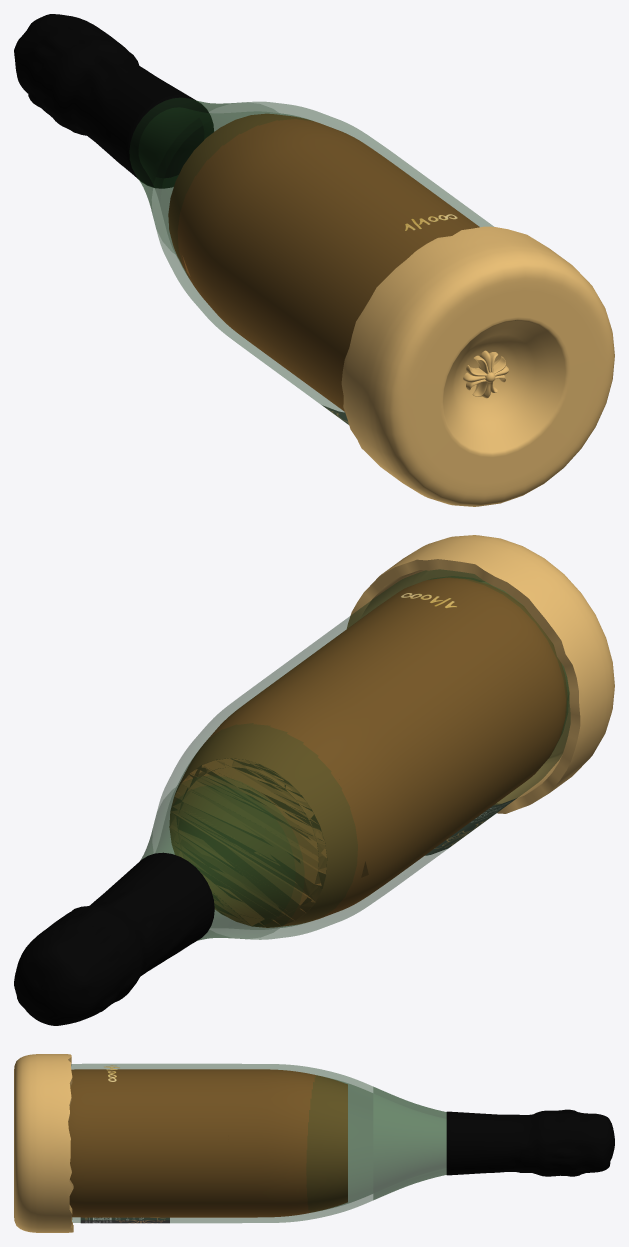
The model's file is KXCH_3D.glb.
3 renders of one model, top to bottom at view 1: azimuth 30°, elevation 25°; view 2: azimuth 150°, elevation 25°; view 3: azimuth 270°, elevation 25°, orthographic. The views are drawn at different scales.
Visible parts, largest first — view 1: imagetostl_mesh9.001, Base without top.002, imagetostl_mesh9.002, Cylinder.007, object_3; view 2: imagetostl_mesh9.001, imagetostl_mesh9.002, Cylinder.007, Base without top.002, Plane.001; view 3: imagetostl_mesh9.001, imagetostl_mesh9.002, Cylinder.007, Base without top.002, Plane.001.
Boxes of the visible parts, x1,y1,x2,y2 form: imagetostl_mesh9.001: (129, 98, 493, 424); Base without top.002: (341, 226, 614, 506); imagetostl_mesh9.002: (168, 113, 479, 411); Cylinder.007: (14, 14, 213, 188); object_3: (463, 350, 509, 398); imagetostl_mesh9.001: (140, 569, 570, 940); imagetostl_mesh9.002: (169, 577, 567, 927); Cylinder.007: (14, 852, 214, 1025); Base without top.002: (347, 535, 614, 813); Plane.001: (425, 798, 516, 855); imagetostl_mesh9.001: (68, 1064, 446, 1222); imagetostl_mesh9.002: (68, 1069, 347, 1217); Cylinder.007: (446, 1109, 614, 1176); Base without top.002: (14, 1054, 73, 1232); Plane.001: (80, 1217, 169, 1223).
Bounding box in the file's own units: 0.7486 × 0.7486 × 2.51.
Materials: 7 (2 with a texture image).
